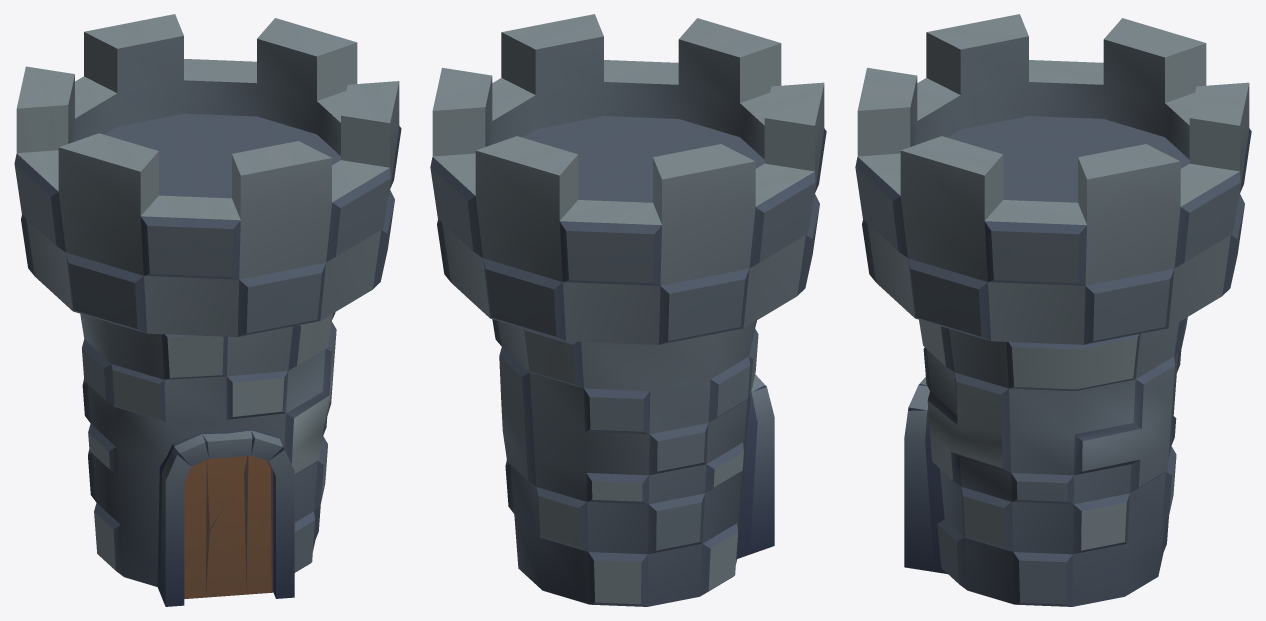
The model's file is Tower.fbx.
3 renders of one model, left to right at view 1: azimuth 30°, elevation 25°; view 2: azimuth 150°, elevation 25°; view 3: azimuth 270°, elevation 25°, orthographic. The views are drawn at different scales.
Visible parts, largest first — view 1: Tower; view 2: Tower; view 3: Tower.
Part boxes in pixels (x1,y1,x2,y2): Tower: (14, 14, 401, 606); Tower: (430, 14, 826, 606); Tower: (855, 14, 1251, 606).
Bounding box in the file's own units: 180 × 229 × 177.
